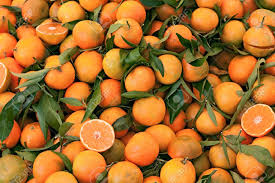orange: (40, 54, 79, 89), (131, 93, 167, 125), (213, 81, 247, 114), (148, 51, 181, 84), (126, 132, 160, 163), (160, 155, 197, 183), (73, 48, 103, 82), (124, 65, 156, 94), (93, 79, 125, 106), (199, 108, 228, 133)
